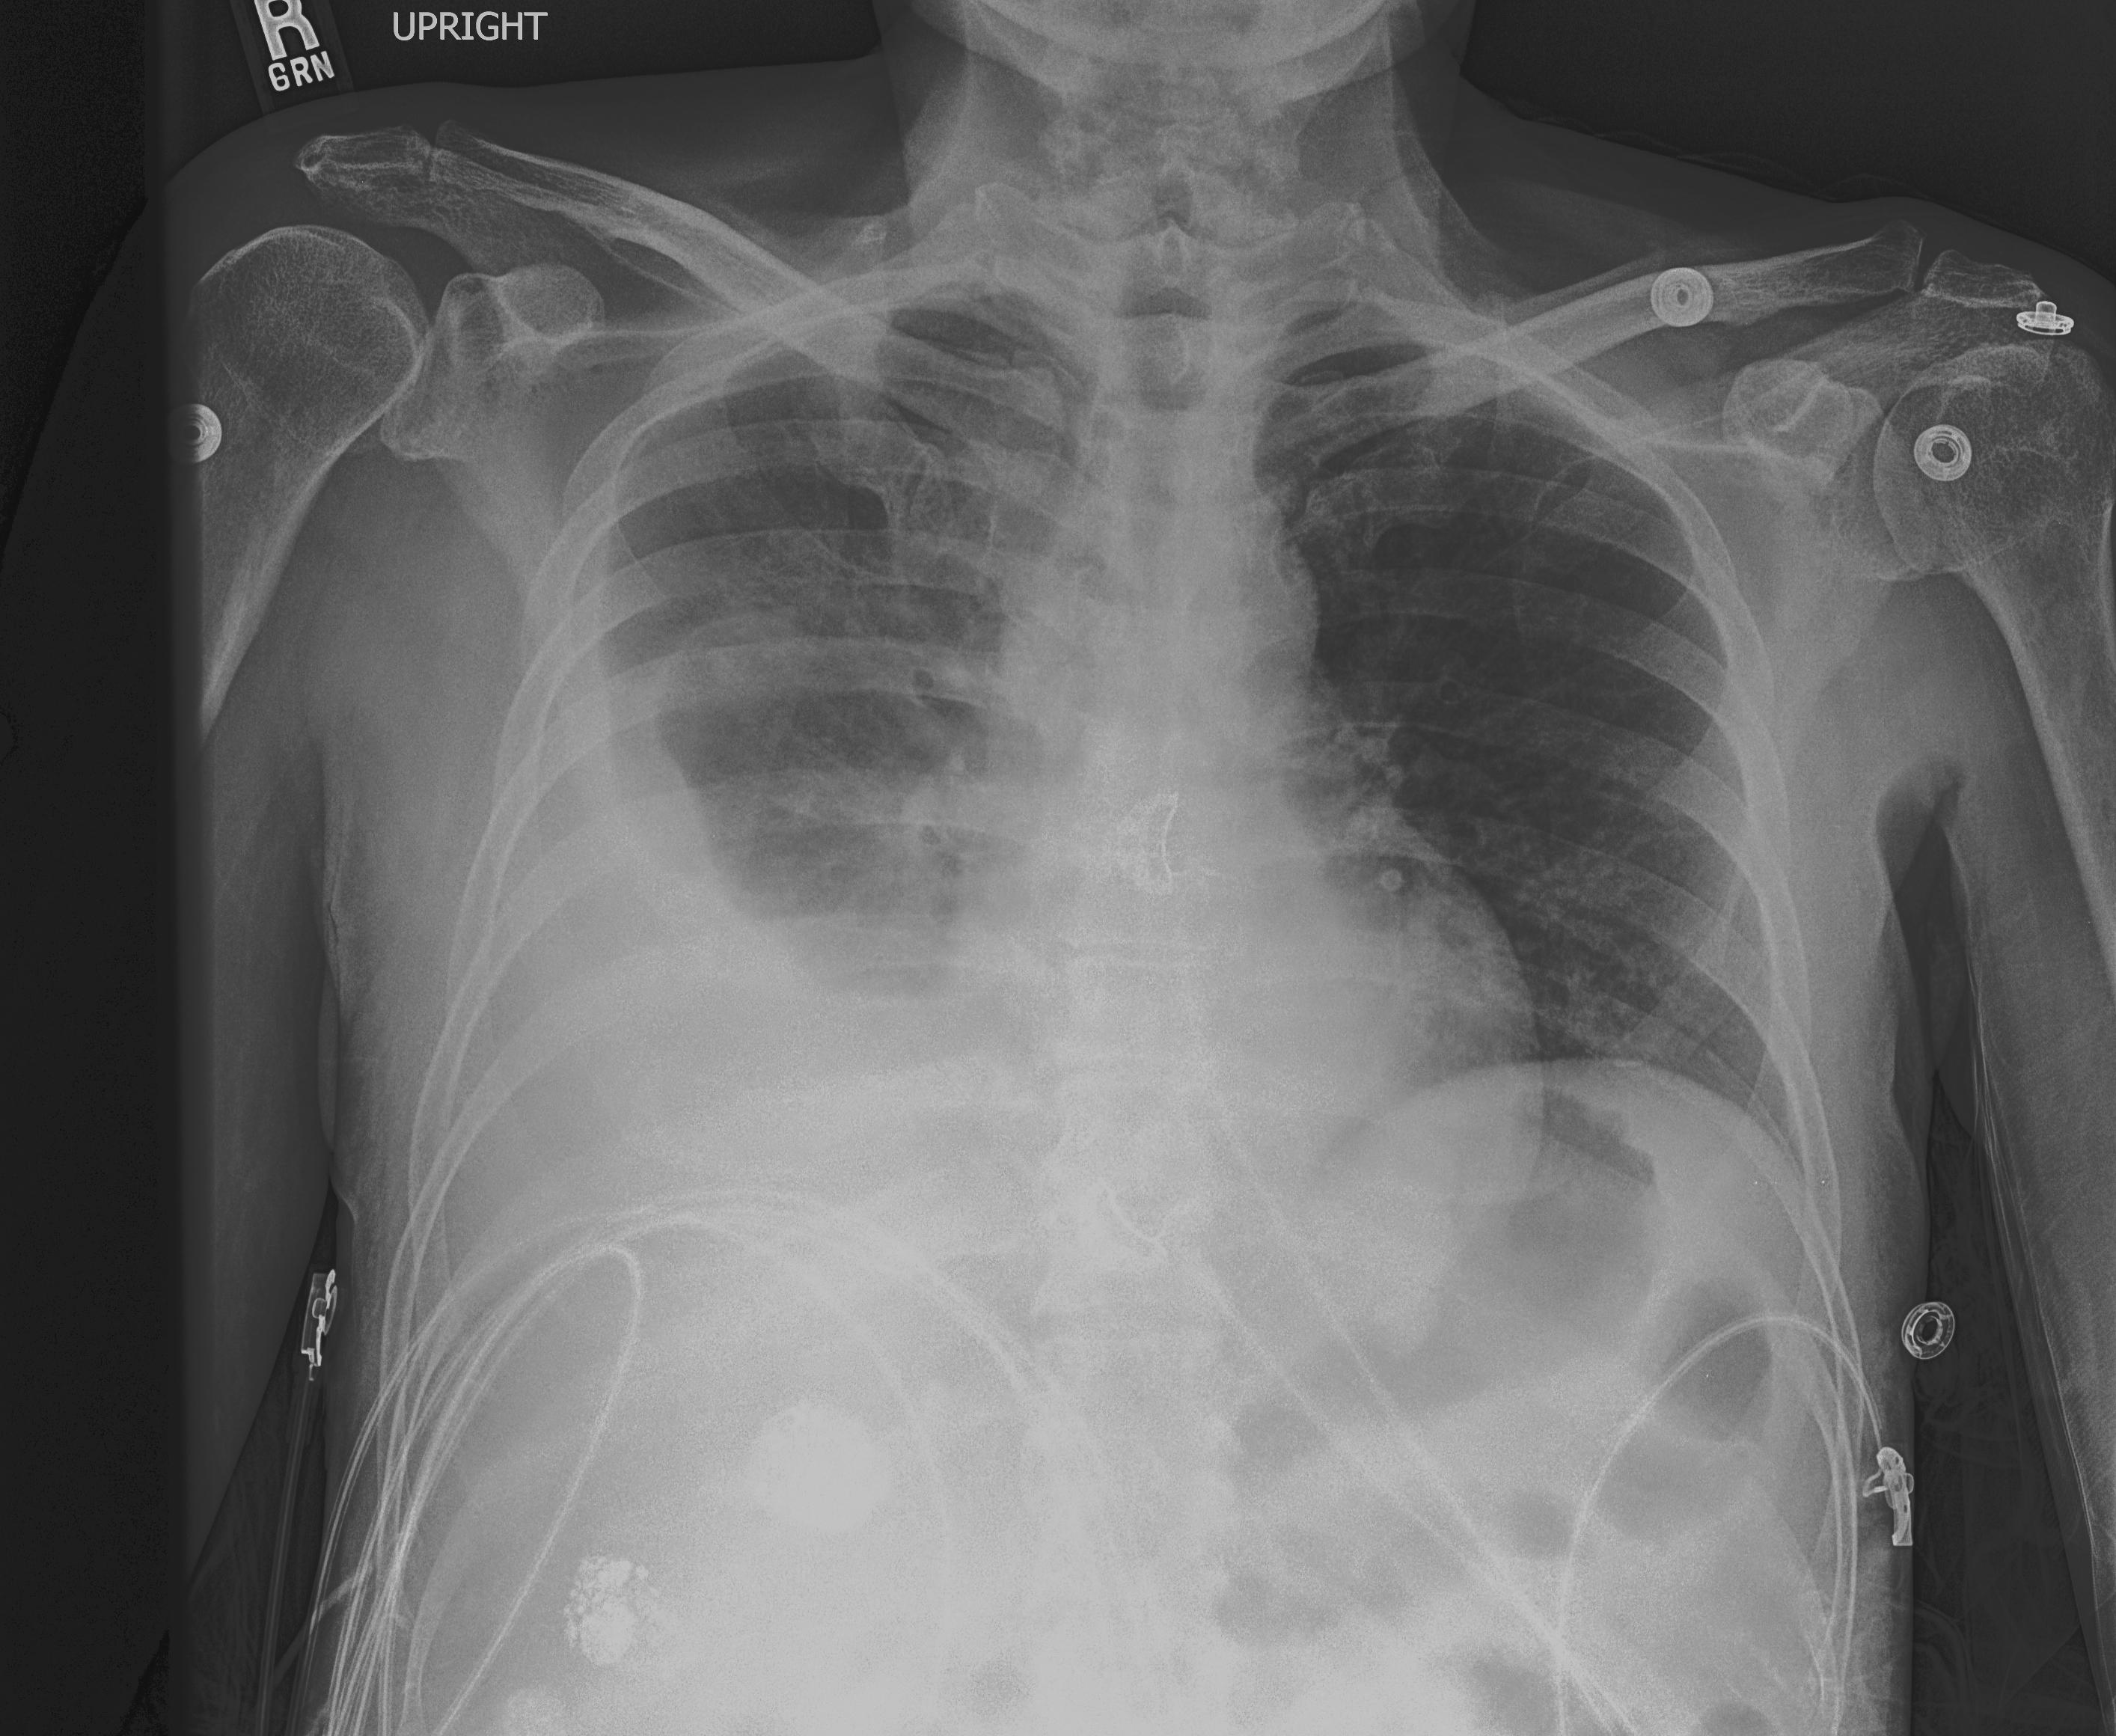Pleural Effusion: (431, 661, 773, 1406)
